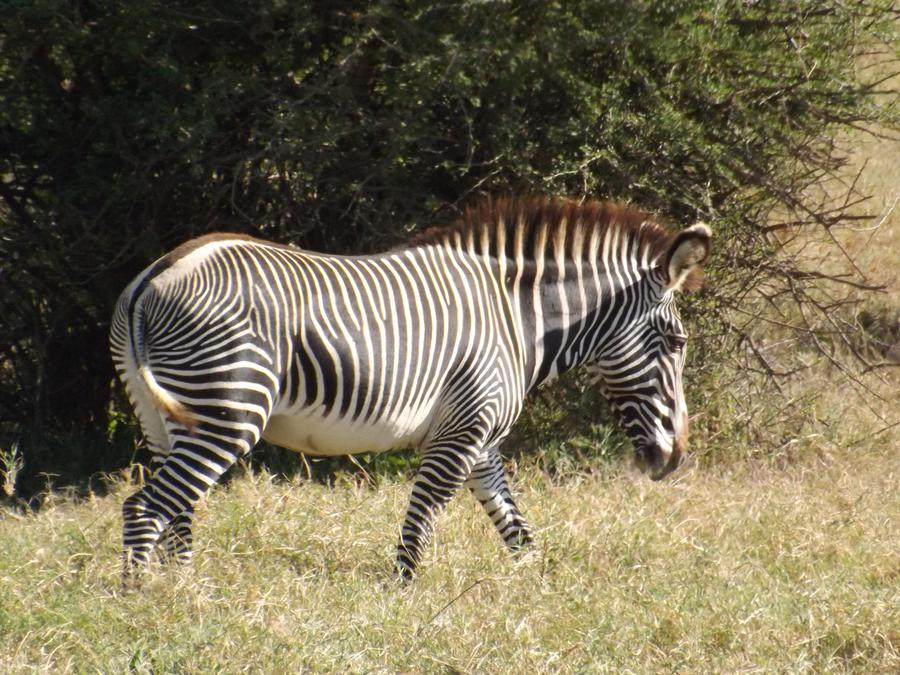zebra_grevys: (102, 199, 511, 450)
